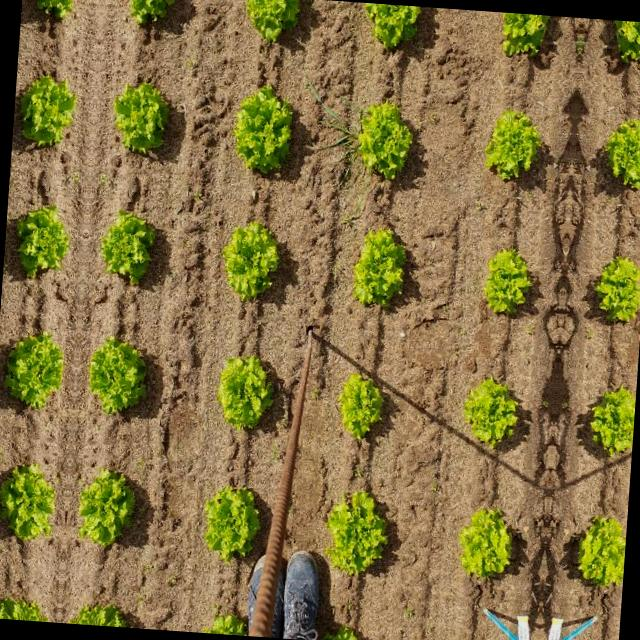healthy: (320, 480, 397, 580), (349, 87, 418, 189), (231, 81, 297, 178), (198, 478, 266, 564), (96, 206, 164, 292), (349, 224, 412, 316), (5, 200, 72, 286), (213, 348, 279, 434), (76, 460, 139, 549), (107, 74, 175, 154), (13, 68, 81, 147), (480, 104, 545, 186), (85, 339, 152, 418), (456, 502, 520, 584), (0, 333, 66, 412), (0, 454, 57, 543), (222, 216, 282, 300), (462, 371, 524, 450), (569, 510, 627, 592), (332, 368, 392, 447), (482, 244, 538, 322), (587, 251, 640, 330), (584, 379, 636, 457), (493, 12, 562, 70), (360, 3, 429, 60), (600, 112, 640, 192), (240, 0, 303, 48), (596, 19, 640, 77), (68, 596, 136, 628), (121, 0, 179, 29), (0, 590, 50, 622), (23, 0, 81, 22), (207, 609, 248, 636), (322, 623, 373, 640)
